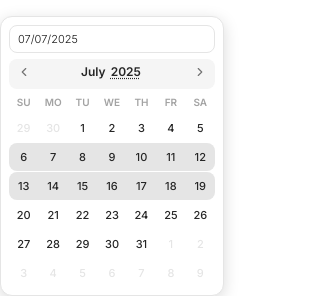
CalendarDatePicker — year picker › clicking the year button switches to year-selection mode
(page scrolled)
Click the button named "select year" at (126, 72), box [109,63,143,81]
(page scrolled)
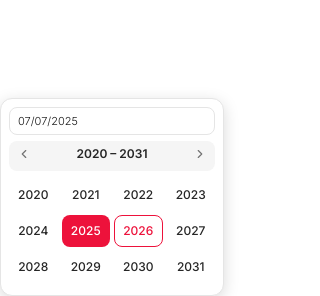
Check: the text "Su" is gone
